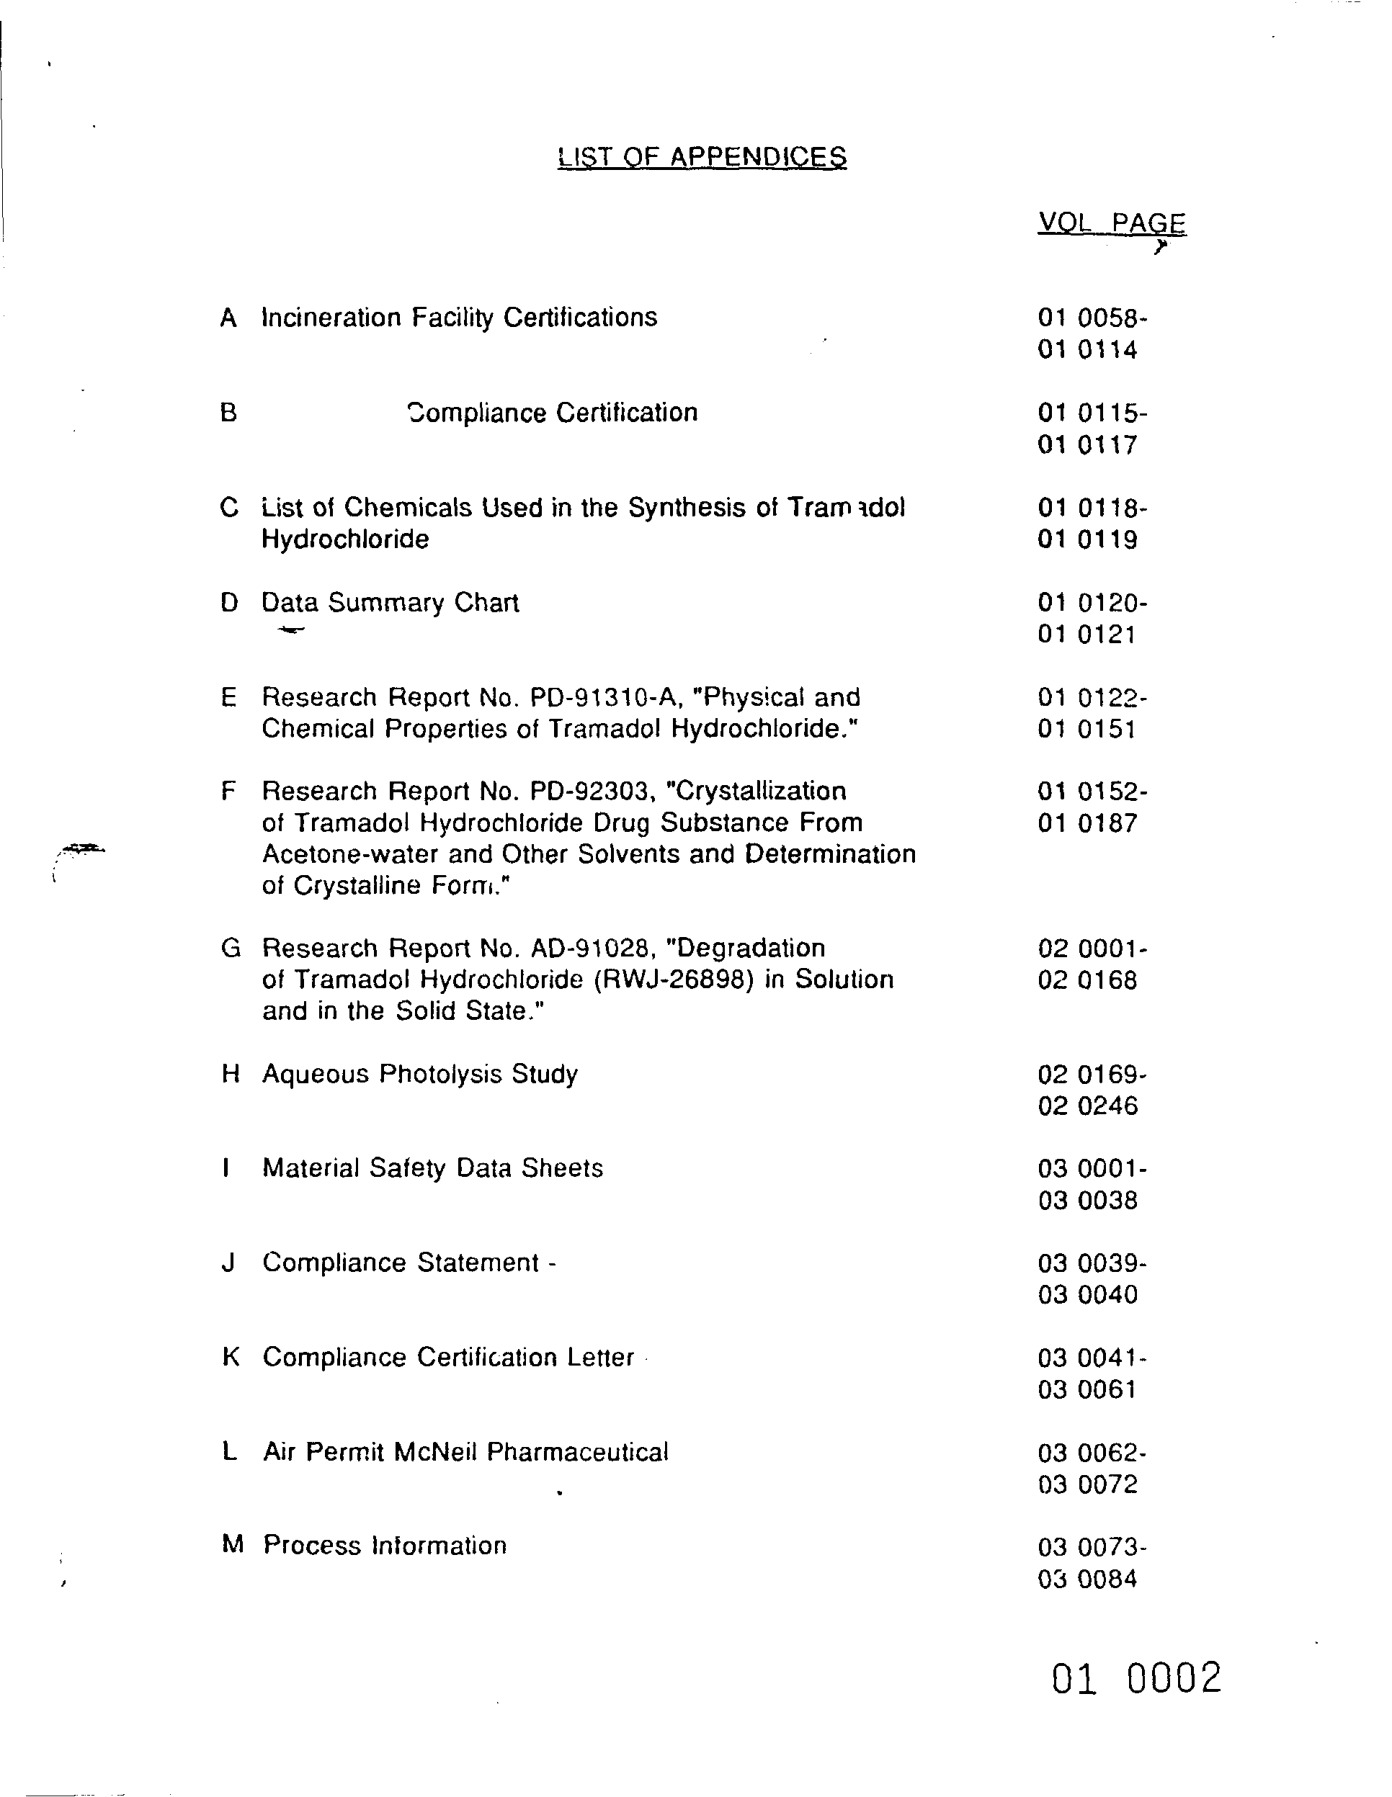nolines: (212, 207, 1191, 1594)
